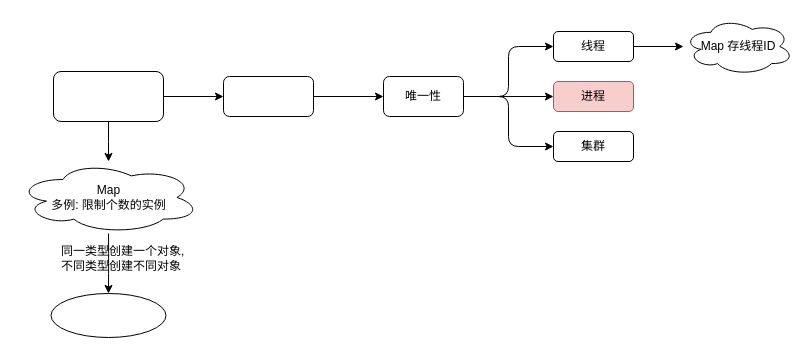
This 812x355 diagram has some shape labels left out. Here are the shapes that lost their labels. From the top down, the centre of each, then its label:
At [108,96]: "单例".
At [268,96]: "定义".
At [108,315]: "枚举".
